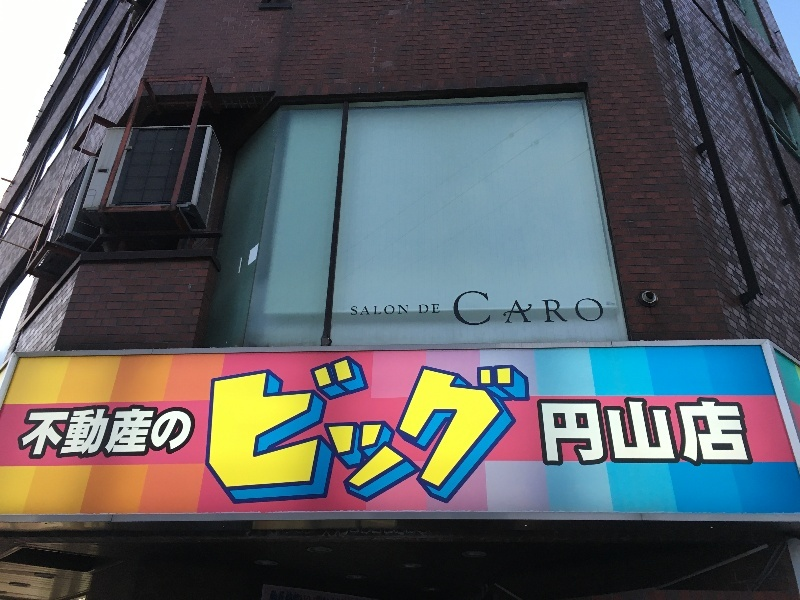text: (225, 353, 240, 506), (241, 353, 256, 506), (257, 353, 272, 506), (273, 353, 288, 506), (289, 353, 304, 506), (305, 353, 320, 506), (321, 353, 336, 506), (337, 353, 352, 506), (353, 353, 368, 506), (369, 353, 384, 506), (385, 353, 400, 506), (401, 353, 416, 506), (417, 353, 432, 506), (433, 353, 448, 506), (449, 353, 464, 506), (465, 353, 480, 506), (481, 353, 496, 506), (497, 353, 512, 506), (513, 353, 528, 506), (212, 353, 224, 506), (529, 353, 537, 506), (545, 394, 560, 474), (561, 394, 576, 474), (577, 394, 592, 474), (593, 394, 608, 474), (609, 394, 624, 474), (625, 394, 640, 474), (641, 394, 656, 474), (657, 394, 672, 474), (673, 394, 688, 474), (689, 394, 704, 474), (705, 394, 720, 474), (721, 394, 736, 474), (737, 394, 752, 474), (17, 404, 32, 463), (33, 404, 48, 463), (49, 404, 64, 463), (65, 404, 80, 463), (81, 404, 96, 463), (97, 404, 112, 463), (113, 404, 128, 463), (129, 404, 144, 463), (145, 404, 160, 463), (161, 404, 176, 463), (177, 404, 192, 463), (537, 394, 544, 474), (465, 291, 480, 327), (481, 291, 496, 327), (497, 291, 512, 327), (513, 291, 528, 327), (529, 291, 544, 327), (545, 291, 560, 327), (561, 291, 576, 327), (577, 291, 592, 327), (451, 291, 464, 327), (593, 291, 605, 327), (193, 404, 197, 463), (417, 303, 432, 315), (353, 305, 368, 316), (369, 305, 384, 316), (385, 305, 400, 316), (753, 394, 755, 474), (14, 404, 16, 463), (401, 305, 410, 316), (433, 303, 441, 315), (351, 305, 352, 316)
